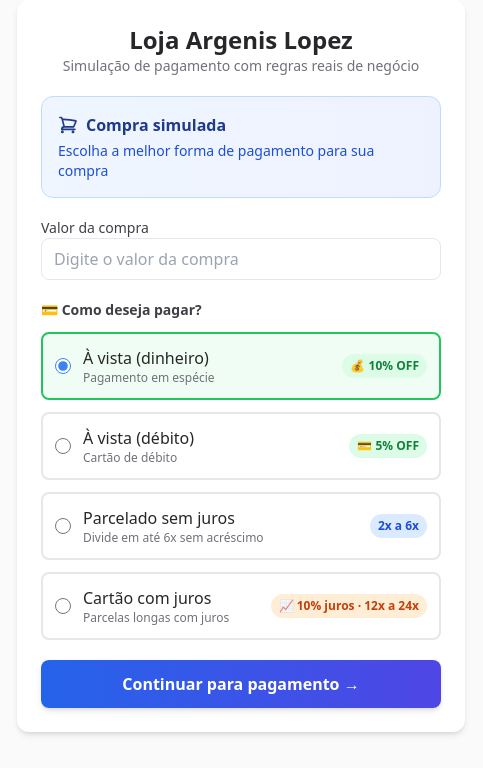
Scenario: Componente PagamentoForm › deve mostrar o seletor de parcelas apenas para métodos parcelados
Expected: the text "📊 Número de parcelas" is not shown
Seleciona Cartão com juros
Click the radio button labelled "Cartão com juros". click: (63, 606)
box: [55, 598, 71, 614]
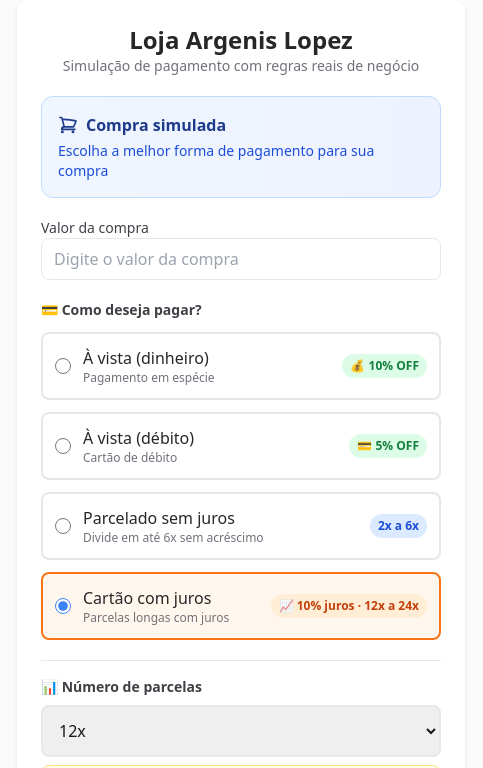
Expected: the text "📊 Número de parcelas" is shown, [41, 677, 202, 696]
Expected: the dropdown is shown, [41, 705, 441, 757]
